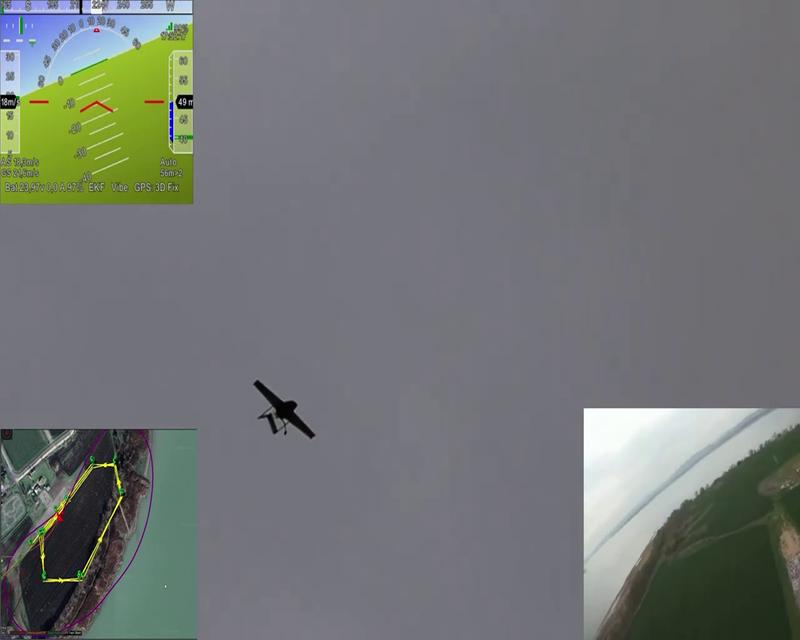UAV: (254, 378, 315, 437)
